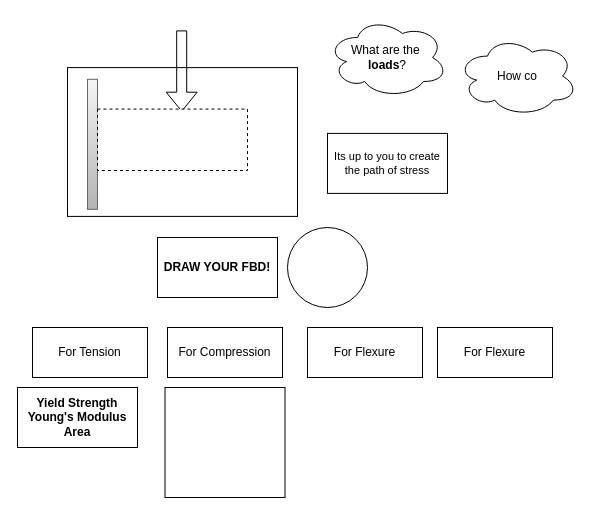
Image size: 595x515. Some labels were removed from this diagram. Here are the shapes that lost their labels. From the top down, the box of each, then its label:
(286, 226, 368, 308): Design
(164, 386, 285, 498): Area Yield Strength Buckling
